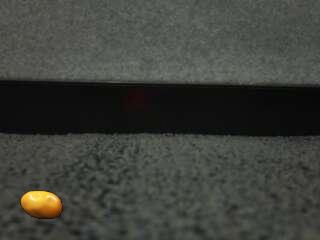Potato: (20, 191, 63, 220)
